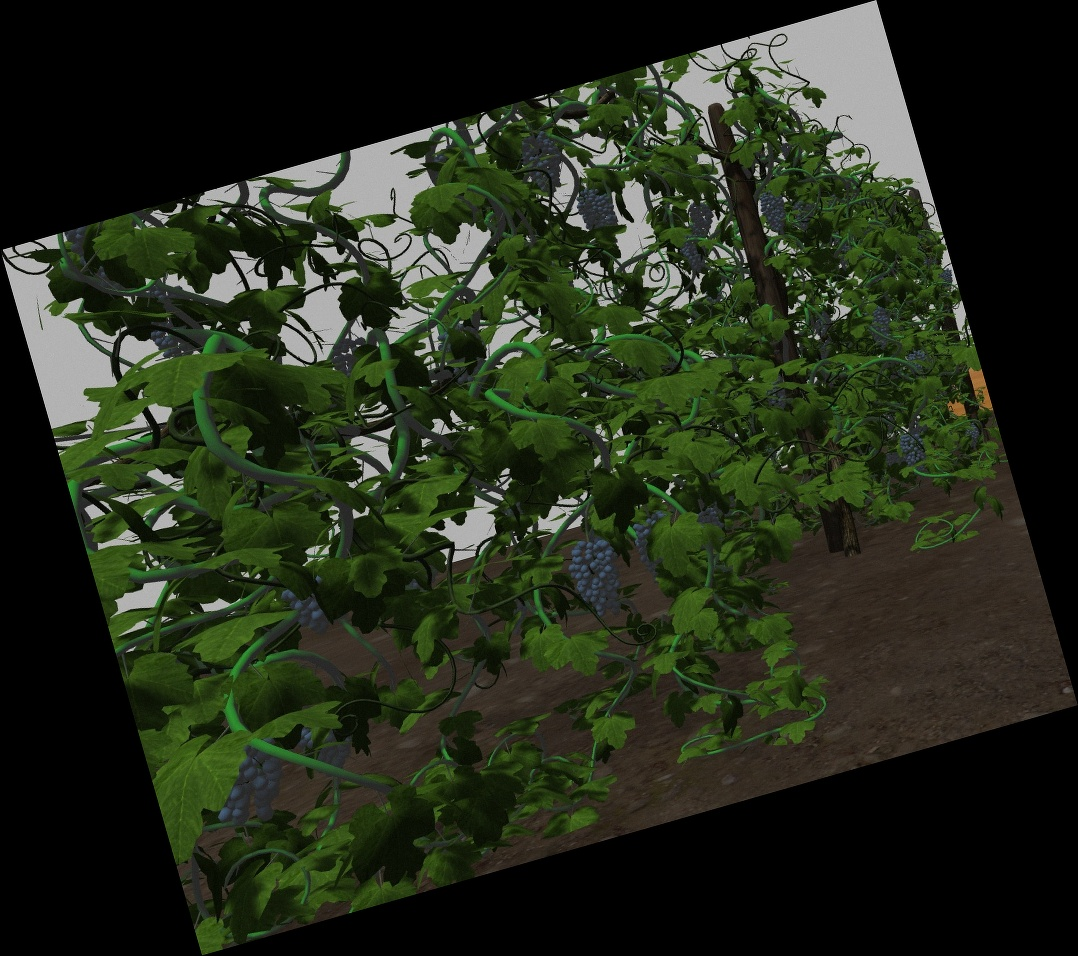grape: (209, 745, 282, 824), (571, 542, 621, 615), (521, 133, 563, 196), (286, 581, 328, 641), (578, 184, 617, 233), (760, 186, 785, 231), (902, 432, 925, 473), (869, 309, 892, 346), (679, 237, 703, 272), (691, 201, 716, 234), (909, 351, 926, 374), (967, 425, 980, 443), (939, 269, 953, 285)
